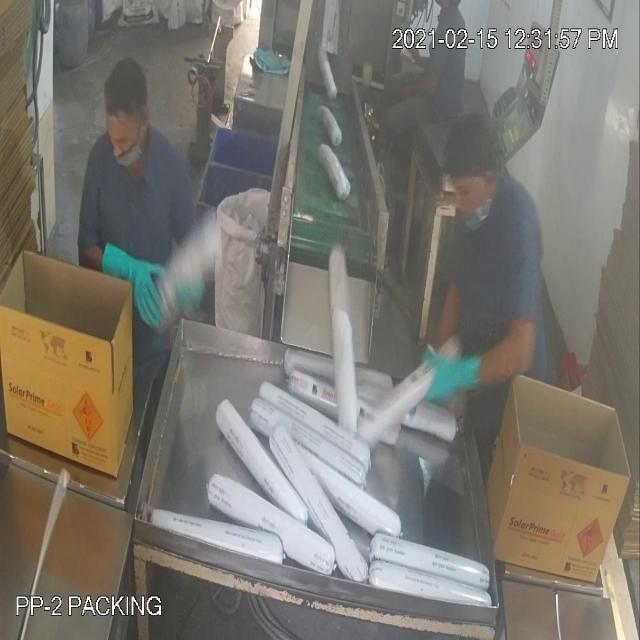Gloves: (74, 86, 451, 370)
